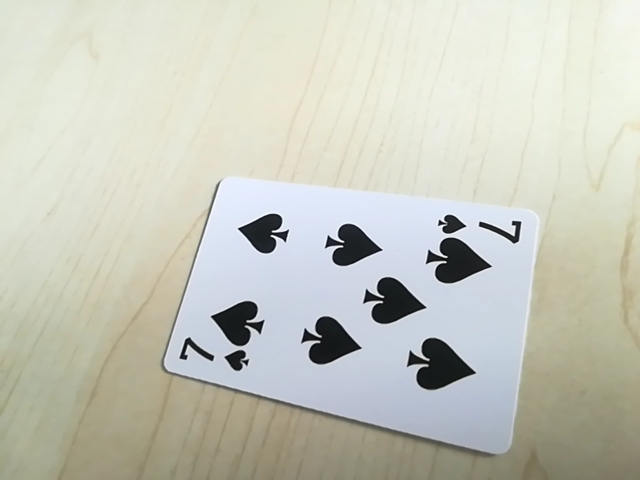ht 7: (170, 341, 257, 377), (433, 209, 527, 242)
